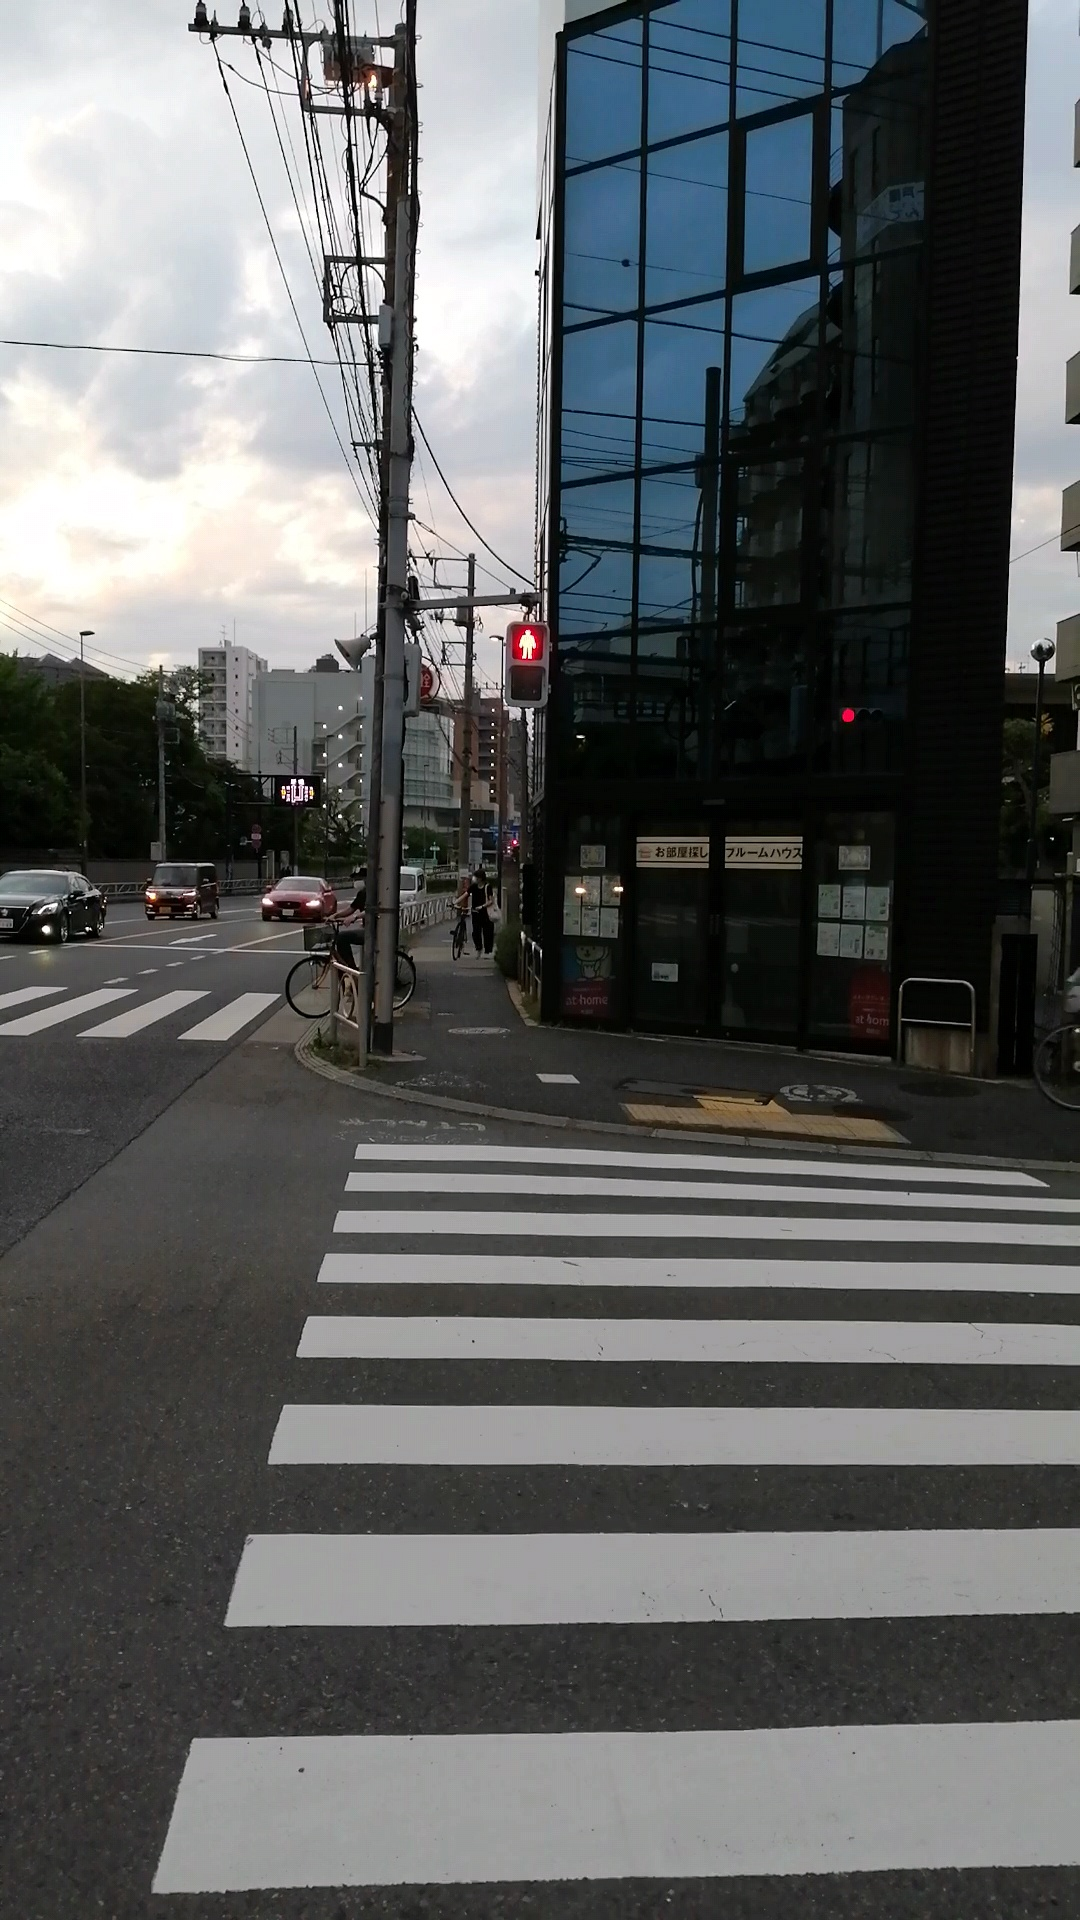red: (504, 620, 551, 705)
